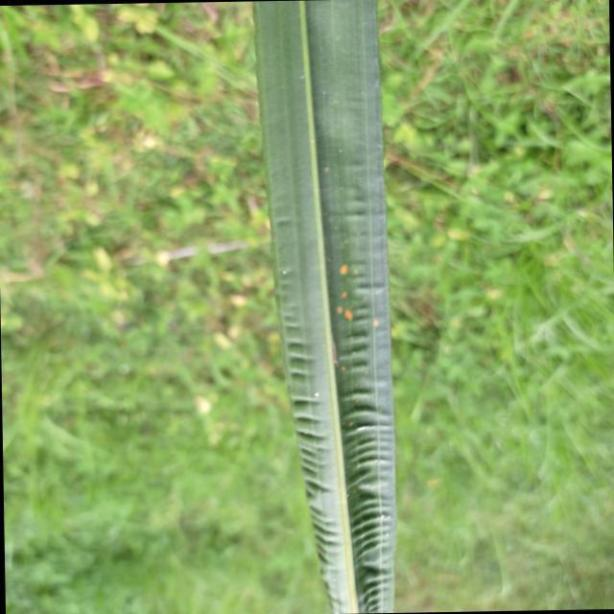Boron: (251, 0, 398, 614)
